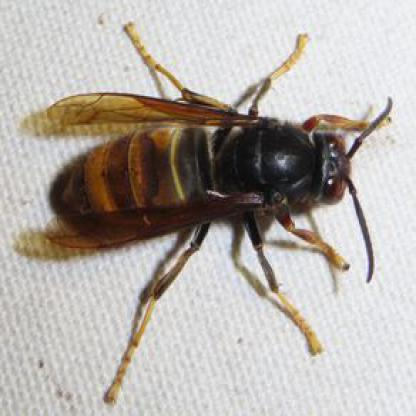Asian Hornet: (21, 25, 397, 407)
